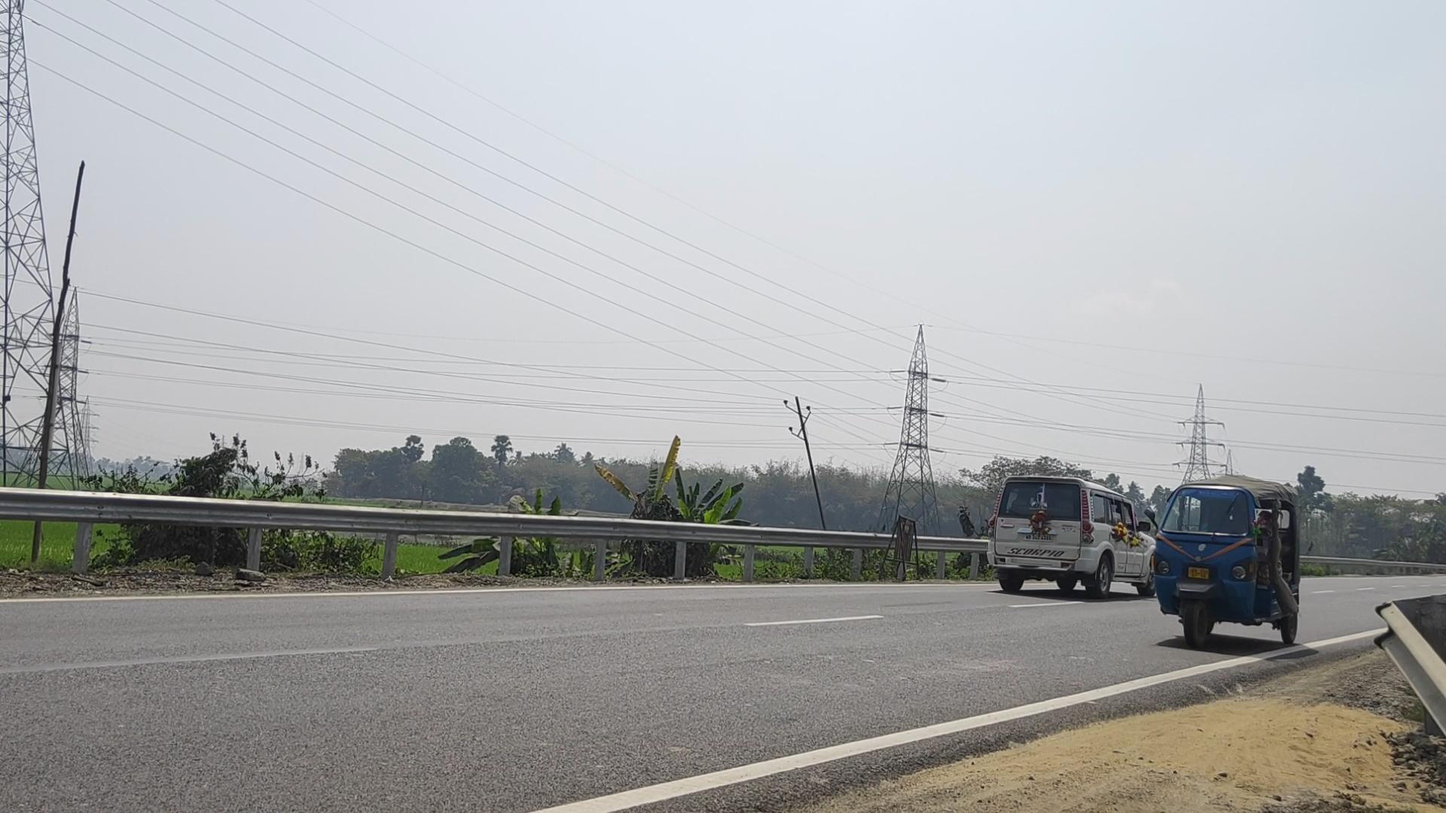Auto: (1144, 474, 1301, 647)
car: (986, 476, 1158, 600)
